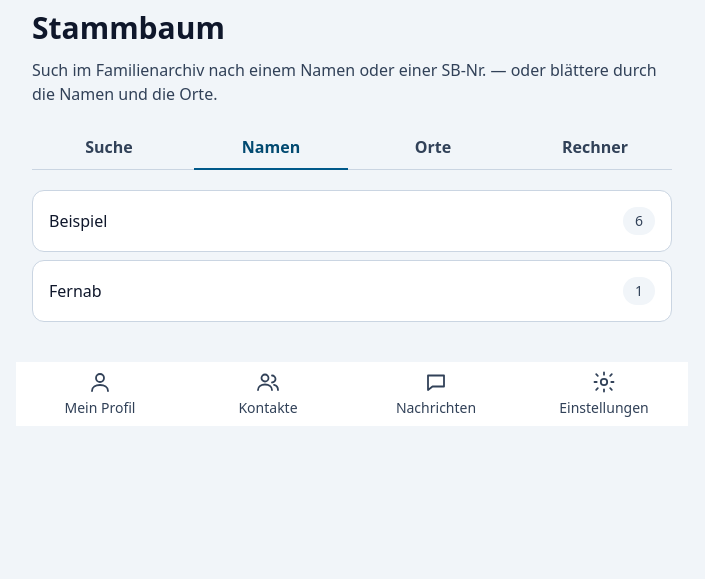
Test: reading down the indexes › tapping a surname lists the people under it
Click the button "Fernab 1" at (75, 291), box [32, 260, 672, 322]
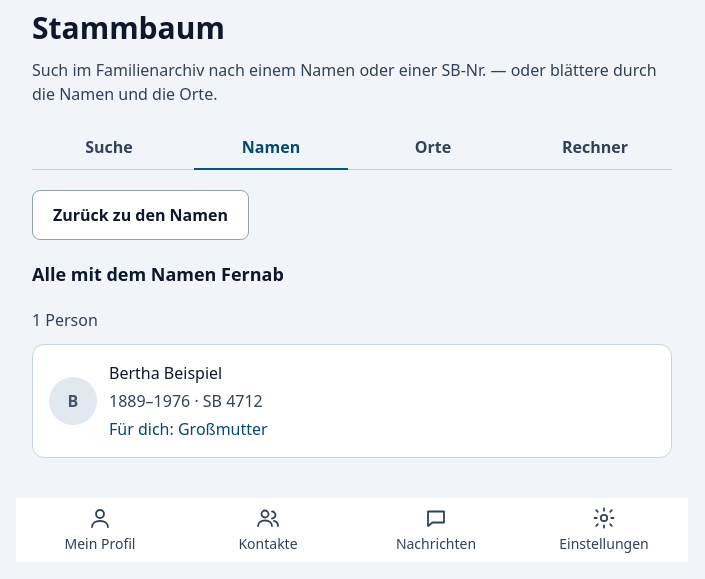
Check: the heading "Alle mit dem Namen Fernab" is shown, box [32, 262, 284, 286]
